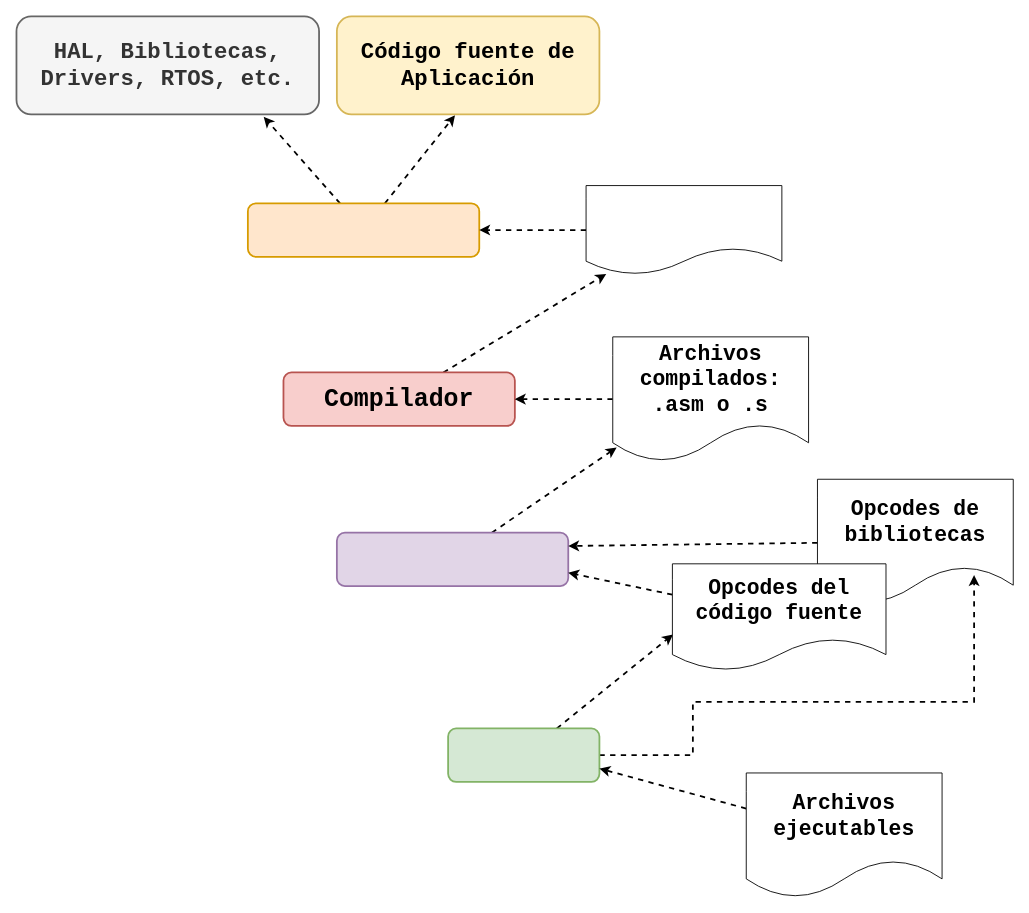
The diagram is 1029 pixels wide and 913 high, and some of its shapes have lost their labels. Each missing label, with the centre of its shape:
Archivos Preprocesados: point (683, 230)
Ensamblador: point (452, 559)
Linker: point (523, 754)
Preprocesador: point (363, 229)
